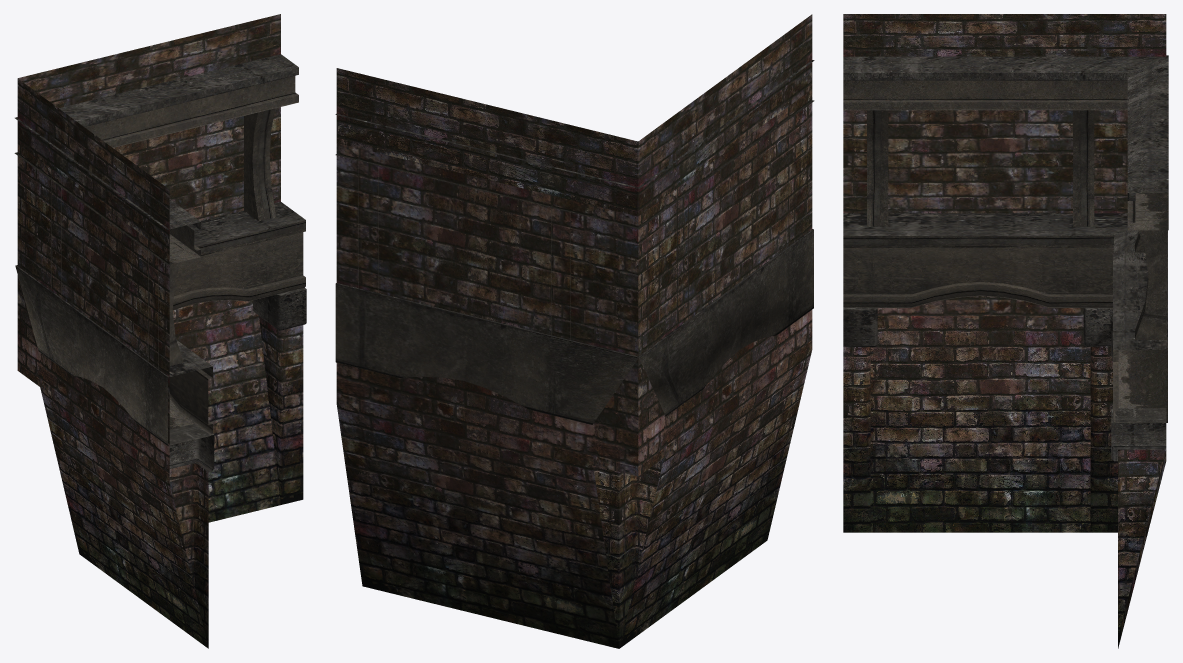
Rendered from sewer_wall_high_concave.DAE.
3 renders of one model, left to right at view 1: azimuth 30°, elevation 25°; view 2: azimuth 150°, elevation 25°; view 3: azimuth 270°, elevation 25°, orthographic. The views are drawn at different scales.
Parts seen in each view (by area): view 1: sewer_wall_high_concave, sewer_wall_high_support_concave; view 2: sewer_wall_high_concave, sewer_wall_high_support_concave; view 3: sewer_wall_high_concave, sewer_wall_high_support_concave.
Part boxes in pixels (x1=…): sewer_wall_high_concave: x1=17, y1=14, x2=303, y2=648; sewer_wall_high_support_concave: x1=14, y1=54, x2=306, y2=472; sewer_wall_high_concave: x1=336, y1=14, x2=812, y2=648; sewer_wall_high_support_concave: x1=335, y1=60, x2=814, y2=424; sewer_wall_high_concave: x1=843, y1=14, x2=1166, y2=648; sewer_wall_high_support_concave: x1=843, y1=55, x2=1168, y2=461.
Size of the model in its own units: 2.37 by 4 by 2.37.
